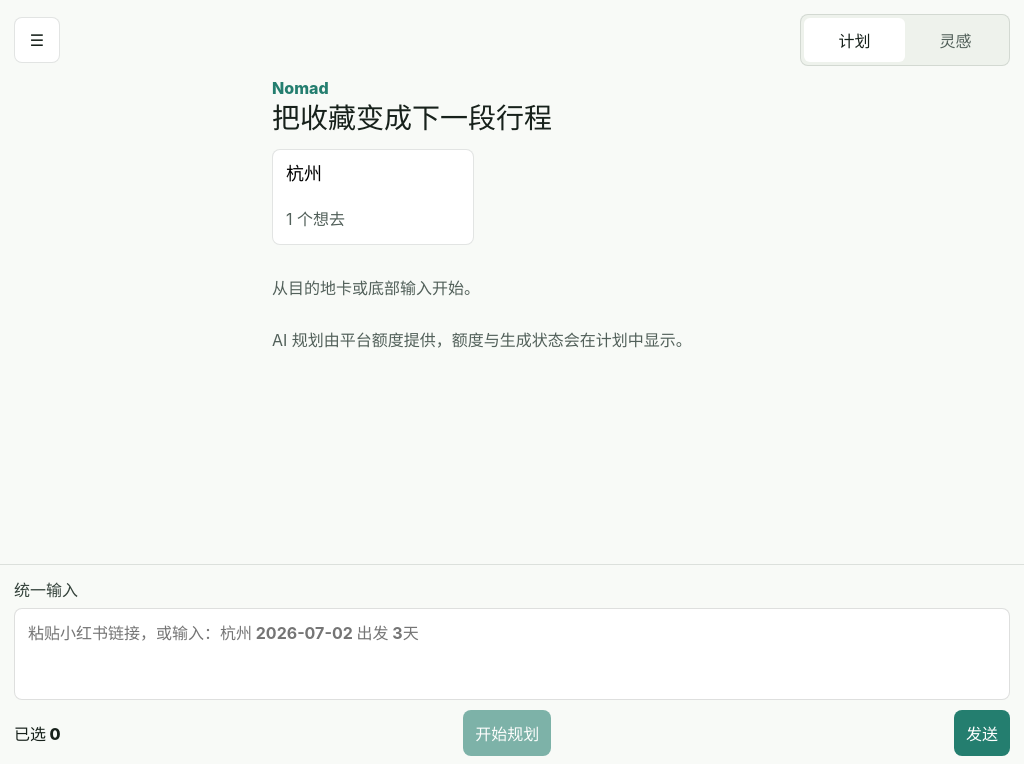
Test: App › restores an existing cookie session before showing Home and handles Planner handoff
Expected: the heading "把收藏变成下一段行程" is shown, [272,101,552,135]
Click the button "灵感" at (956, 40), box [905,18,1006,62]
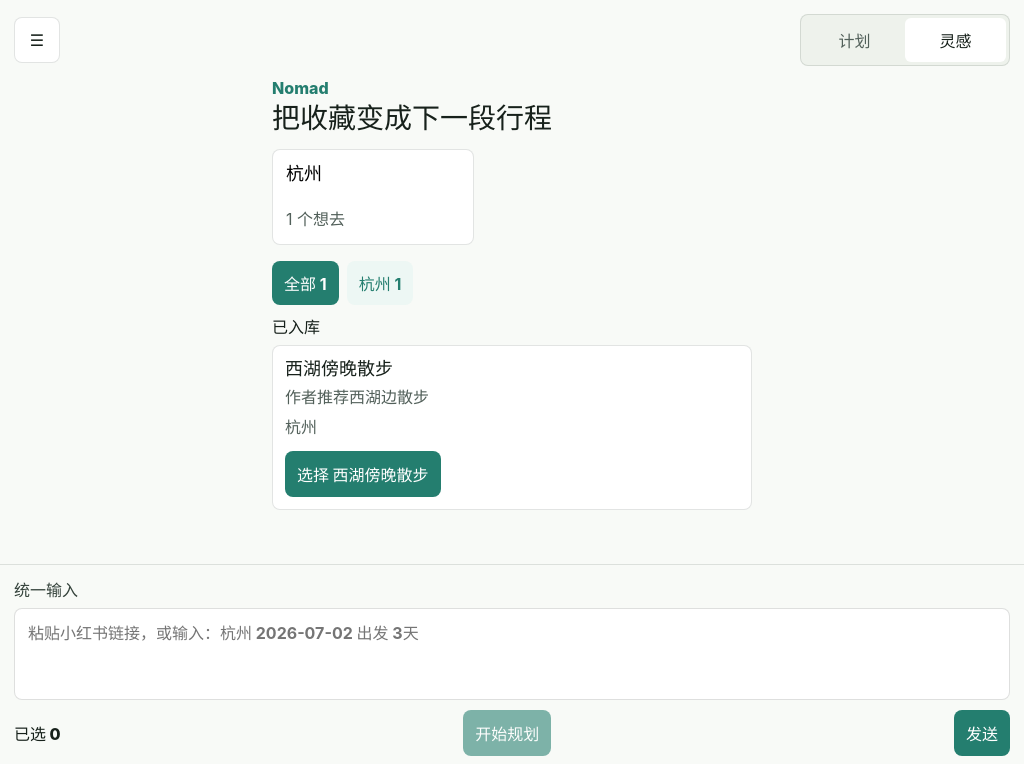
Click the button "选择 西湖傍晚散步" at (363, 474), box [285,451,440,497]
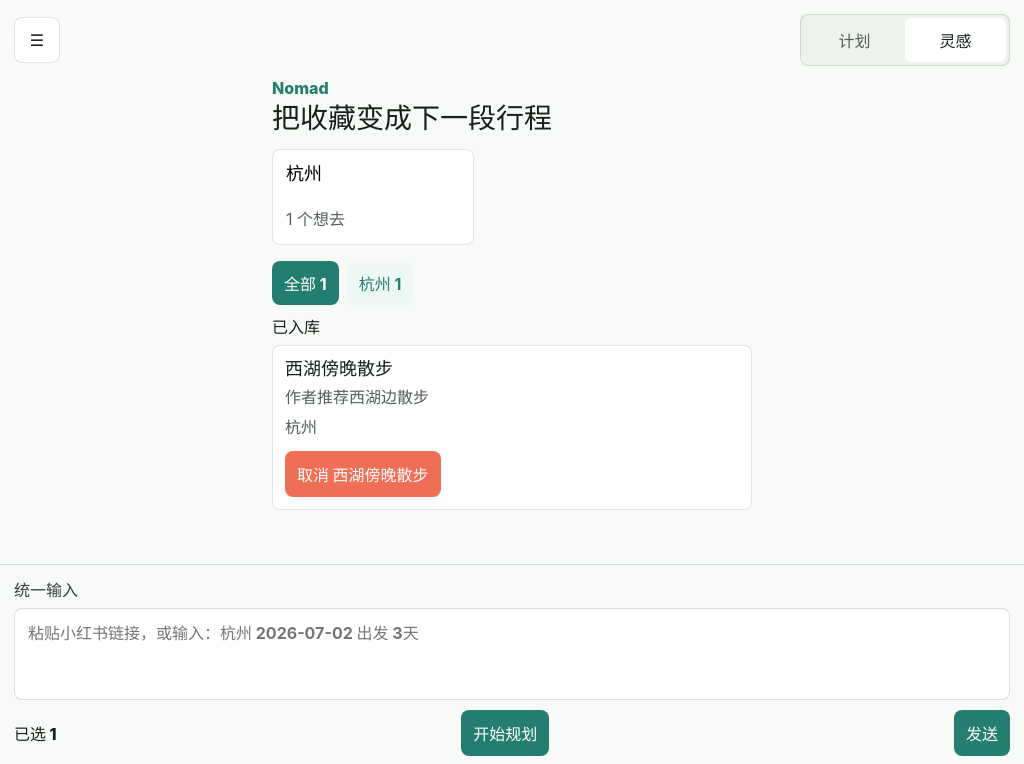
Click the button "开始规划" at (505, 733), box [461,710,549,756]
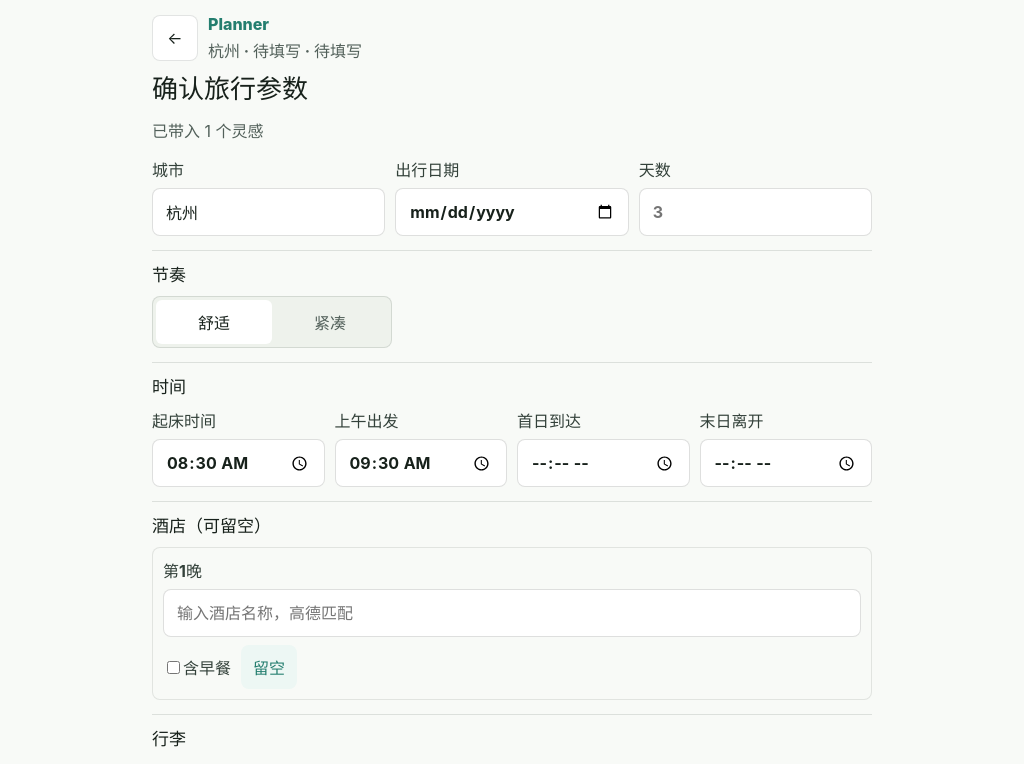
Expected: the heading "确认旅行参数" is shown, [152,73,308,104]
Expected: the text "已带入 1 个灵感" is shown, [152,121,264,141]
